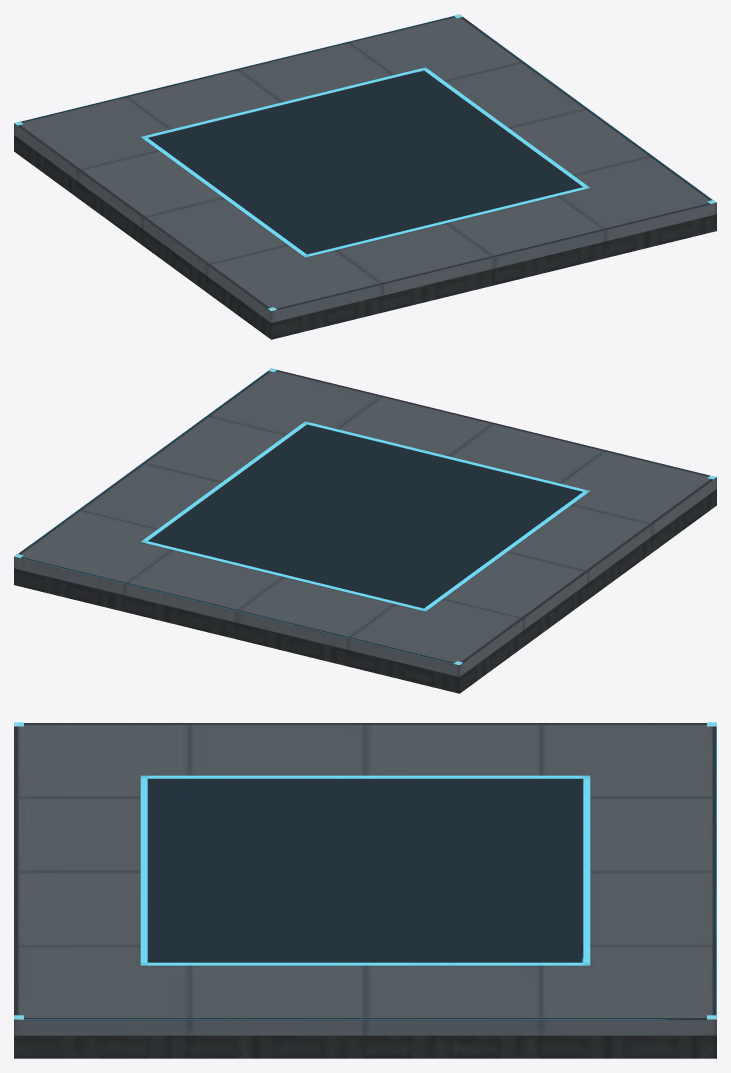
Rendered from hull_enterprise_hull_glass.glb.
3 renders of one model, top to bottom at view 1: azimuth 30°, elevation 25°; view 2: azimuth 150°, elevation 25°; view 3: azimuth 270°, elevation 25°, orthographic. The views are drawn at different scales.
Parts seen in each view (by area): view 1: te_hull_enterprise_hull_glass; view 2: te_hull_enterprise_hull_glass; view 3: te_hull_enterprise_hull_glass.
Boxes of the visible parts, x1,y1,x2,y2 form: te_hull_enterprise_hull_glass: (14,14,716,339); te_hull_enterprise_hull_glass: (14,368,716,693); te_hull_enterprise_hull_glass: (14,722,716,1058).
Size of the model in its own units: 1 by 0.0618 by 1.
1 material, 1 textured.
